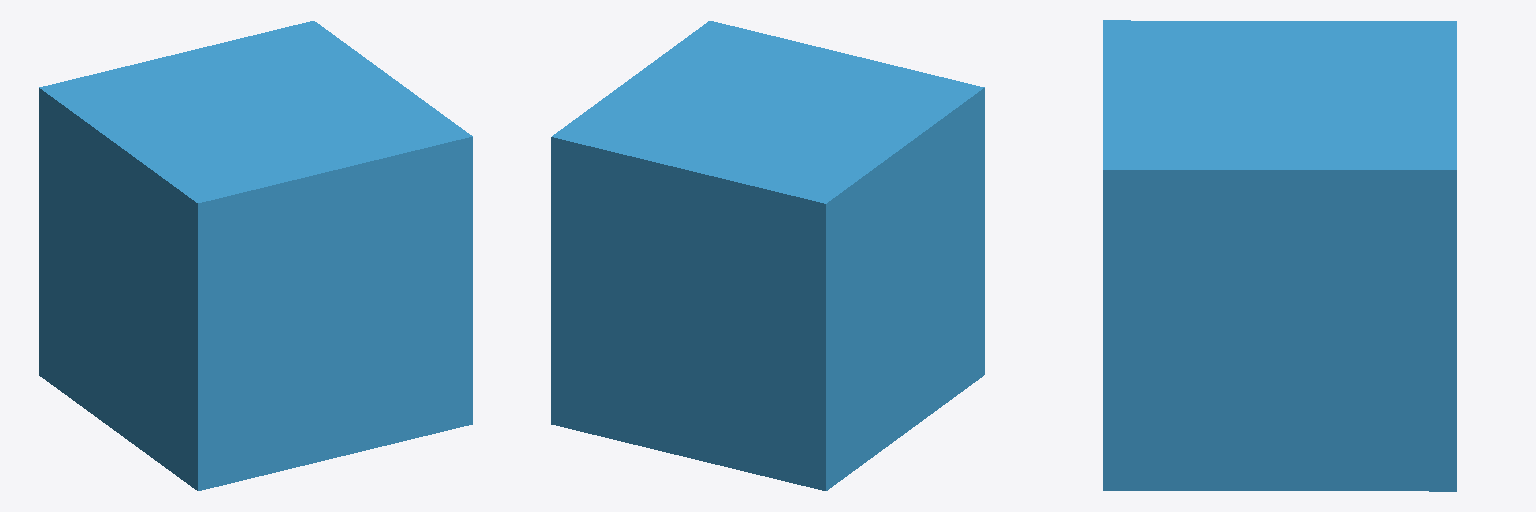
robot.urdf — arm2d2:
<robot name="arm2d2" xmlns:xacro="http://www.ros.org/wiki/xacro">
  <mujoco>
    <compiler meshdir="meshes" balanceinertia="true" discardvisual="false"/>
    <asset>
      <material name="grid" texture="grid" texrepeat="1 1" texuniform="true" reflectance=".2"/>
    </asset>
  </mujoco>

  <link name="base_link">
    <inertial>
        <origin xyz="-2.154281413321998e-06 0.0035387814754625734 -0.0056639470834143136" rpy="0 0 0"/>
        <mass value="1.5479093566761954"/>
        <inertia ixx="0.010238" iyy="0.01139" izz="0.021617" ixy="-0.0" iyz="0.0" ixz="0.0"/>
    </inertial>
    <visual>
        <origin xyz="0 0 0.0025" rpy="0 0 0"/>
        <geometry>
        <mesh filename="base_plate.stl" scale="0.001 0.001 0.001"/>
        </geometry>
        <material name="silver"/>
    </visual>
    <collision>
        <origin xyz="0 0 0.0025" rpy="0 0 0"/>
        <geometry>
        <mesh filename="base_plate.stl" scale="0.001 0.001 0.001"/>
        </geometry>
    </collision>
  </link>

  <link name="base_connector">
      <inertial>
      <origin rpy="0 0 0" xyz="0.06861790086338357 -0.0835697992386399 0.07107579694115096"/>
      <mass value="4.519107238213137"/>
      <inertia ixx="0.059779" ixy="-0.0" ixz="0.0" iyy="0.062251" iyz="0.000956" izz="0.076317"/>
    </inertial>
    <visual>
      <origin rpy="0 0 0" xyz="0 0 0"/>
      <geometry>
        <box size="0.001 0.001 0.001"/>
      </geometry>
      <material name="silver"/>
    </visual>
    <collision>
      <origin rpy="0 0 0" xyz="0 0 0"/>
      <geometry>
        <box size="0.001 0.001 0.001"/>
      </geometry>
    </collision>
  </link>

  <joint name="base_connector_joint" type="fixed">
    <parent link="base_link"/>
    <child link="base_connector"/>
    <origin xyz="0 0 -0.005" rpy="1.57 0 0"/>
  </joint>


  <link name="link_1">
    <inertial>
      <origin xyz="-0.023234210000508494 0.032933361084236216 0.002920663644532681" rpy="0 0 0"/>
      <mass value="0.22666453646044638"/>
      <inertia ixx="0.000128" iyy="0.000201" izz="0.000231" ixy="3.1e-05" iyz="-5e-06" ixz="1.5e-05"/>
    </inertial>
    <visual>
      <origin xyz="-0.0851 -0.006604 0.0851" rpy="0 0 0"/>
      <geometry>
        <mesh filename="link_1_1.stl" scale="0.001 0.001 0.001"/>
      </geometry>
      <material name="silver"/>
    </visual>
    <collision>
      <origin xyz="-0.0851 -0.006604 0.0851" rpy="0 0 0"/>
      <geometry>
        <mesh filename="link_1_1.stl" scale="0.001 0.001 0.001"/>
      </geometry>
    </collision>
  </link>

  
  <joint name="joint_1" type="revolute">
    <origin xyz="0.085 0.006604 -0.085" rpy="0 -0.35  0"/>
    <parent link="base_connector"/>
    <child link="link_1"/>
    <axis xyz="0.0 -1.0 0.0"/>
    <limit effort="100" lower="-3.1415" upper="3.1415" velocity="100"/>
  </joint>

  <link name="link_2">
    <inertial>
      <origin xyz="-0.004298579881610032 0.07240002211825339 0.016744309655985348" rpy="0 0 0"/>
      <mass value="0.2595123095947453"/>
      <inertia ixx="0.000561" iyy="0.000112" izz="0.000572" ixy="-6.1e-05" iyz="-9.9e-05" ixz="-9e-06"/>
    </inertial>
    <visual>
      <origin xyz="-0.090305 -0.046604 0.085785" rpy="0 0 0"/>
      <geometry>
        <mesh filename="link_2_1.stl" scale="0.001 0.001 0.001"/>
      </geometry>
      <material name="silver"/>
    </visual>
    <collision>
      <origin xyz="-0.090305 -0.046604 0.085785" rpy="0 0 0"/>
      <geometry>
        <mesh filename="link_2_1.stl" scale="0.001 0.001 0.001"/>
      </geometry>
    </collision>
  </link>

  <joint name="joint_2" type="revolute">
    <origin xyz="-0.005205 0.04 -0.000685" rpy="-0.436332 3.14 -0.03927"/>
    <limit lower="-1.919862" upper="1.396263" effort="100" velocity="100"/>
    <parent link="link_1" />
    <child link="link_2" />
    <axis xyz="-0.991445 -0.0 0.130526"/>
  </joint>

  <link name="link_3">
    <inertial>
      <origin xyz="-0.01624182942995088 -0.0066433309450394384 0.019077247172201647" rpy="0 0 0"/>
      <mass value="0.1304515658530355"/>
      <inertia ixx="5.4e-05" iyy="6.3e-05" izz="4.4e-05" ixy="-2e-06" iyz="8e-06" ixz="7e-06"/>
    </inertial>
    <visual>
      <origin xyz="-0.084346 -0.183285 0.054438" rpy="0 0 0"/>
      <geometry>
        <mesh filename="link_3_1.stl" scale="0.001 0.001 0.001"/>
      </geometry>
      <material name="silver"/>
    </visual>
    <collision>
      <origin xyz="-0.084346 -0.183285 0.054438" rpy="0 0 0"/>
      <geometry>
        <mesh filename="link_3_1.stl" scale="0.001 0.001 0.001"/>
      </geometry>
    </collision>
  </link>

  <joint name="joint_3" type="revolute">
    <origin xyz="-0.005959 0.136681 0.031347" rpy="-3.42078 0.23562 -0.03"/>
    <limit lower="-4.101524" upper="0.698132" effort="100" velocity="100"/>
    <parent link="link_2" />
    <child link="link_3" />
    <axis xyz="-0.991445 -0.0 0.130526"/>
  </joint>

  <link name="link_4">
    <inertial>
      <origin xyz="0.02326557503032635 -0.017807087000725114 0.04222851748201549" rpy="0 0 0"/>
      <mass value="0.21070496092935861"/>
      <inertia ixx="0.00028" iyy="0.000293" izz="0.000129" ixy="3.4e-05" iyz="8.1e-05" ixz="-8e-05"/>
    </inertial>
    <visual>
      <origin xyz="-0.059366 -0.168718 0.013574" rpy="0 0 0"/>
      <geometry>
        <mesh filename="link_4_1.stl" scale="0.001 0.001 0.001"/>
      </geometry>
      <material name="silver"/>
    </visual>
    <collision>
      <origin xyz="-0.059366 -0.168718 0.013574" rpy="0 0 0"/>
      <geometry>
        <mesh filename="link_4_1.stl" scale="0.001 0.001 0.001"/>
      </geometry>
    </collision>
  </link>

  <joint name="joint_4" type="revolute">
    <origin xyz="-0.02498 -0.014567 0.040864" rpy="0 0 0"/>
    <parent link="link_3" />
    <child link="link_4" />
    <axis xyz="0.121444 -0.366501 0.922458"/>
    <limit effort="100" lower="-3.1415" upper="3.1415" velocity="100"/>
  </joint>

  
  <link name="link_5">
    <inertial>
      <origin xyz="-0.02075508203374557 -0.023703571758186867 0.0028416884784955576" rpy="0 0 0"/>
      <mass value="0.15989560658307483"/>
      <inertia ixx="8.3e-05" iyy="5.8e-05" izz="9.9e-05" ixy="-1.8e-05" iyz="3e-06" ixz="2e-06"/>
    </inertial>
    <visual>
      <origin xyz="-0.091433 -0.131975 -0.076012" rpy="0 0 0"/>
      <geometry>
        <mesh filename="link_5_1.stl" scale="0.001 0.001 0.001"/>
      </geometry>
      <material name="silver"/>
    </visual>
    <collision>
      <origin xyz="-0.091433 -0.131975 -0.076012" rpy="0 0 0"/>
      <geometry>
        <mesh filename="link_5_1.stl" scale="0.001 0.001 0.001"/>
      </geometry>
    </collision>
  </link>

  <joint name="joint_5" type="revolute">
    <origin xyz="0.032067 -0.036743 0.089586" rpy="-2.38412 0.23562 0.1"/>
    <limit lower="-3.228859" upper="0.785398" effort="100" velocity="100"/>
    <parent link="link_4" />
    <child link="link_5" />
    <axis xyz="-0.991445 -0.0 0.130526"/>
  </joint>

  <link name="palm">
  <inertial>
    <origin xyz="0.061664701708749915 0.08137303558404387 0.08022062245839305" rpy="0 0 0"/>
    <mass value="0.013667083672765958"/>
    <inertia ixx="2e-06" iyy="3e-06" izz="2e-06" ixy="-0.0" iyz="-0.0" ixz="-0.0"/>
  </inertial>
  <visual>
    <origin xyz="0 0 0" rpy="0 0 0"/>
    <geometry>
      <mesh filename="palm.stl" scale="0.001 0.001 0.001"/>
    </geometry>
    <material name="silver"/>
  </visual>
  <collision>
    <origin xyz="0 0 0" rpy="0 0 0"/>
    <geometry>
      <mesh filename="palm.stl" scale="0.001 0.001 0.001"/>
    </geometry>
  </collision>
</link>

  <joint name="palm_joint" type="fixed">
    <origin xyz="-0.03 -0.041 0.0045" rpy="0 0 0"/>
    <parent link="link_5"/>
    <child link="palm"/>
  </joint>

    <link name="actuator_1">
    <inertial>
      <origin xyz="0.005491083174233274 -0.03206197503178041 -0.0023745477788477826" rpy="0 0 0"/>
      <mass value="0.018363032655382763"/>
      <inertia ixx="8e-06" iyy="1e-06" izz="8e-06" ixy="0.0" iyz="0.0" ixz="-0.0"/>
    </inertial>
    <visual>
      <origin xyz="-0.008797 0.014908 -0.021091" rpy="0 0 0"/>
      <geometry>
        <mesh filename="package://arm2d2_v2_description/meshes/actuator_1_2.stl" scale="0.001 0.001 0.001"/>
      </geometry>
      <material name="silver"/>
    </visual>
    <collision>
      <origin xyz="-0.008797 0.014908 -0.021091" rpy="0 0 0"/>
      <geometry>
        <mesh filename="package://arm2d2_v2_description/meshes/actuator_1_2.stl" scale="0.001 0.001 0.001"/>
      </geometry>
    </collision>
  </link>

  <joint name="actuator_joint_1" type="revolute">
    <origin xyz="0.008797 -0.014908 0.021091" rpy="0 0 0"/>
    <parent link="palm"/>
    <child link="actuator_1"/>
    <axis xyz="-0.792929 0.002094 0.609311"/>
    <limit upper="1.22173" lower="0.0" effort="100" velocity="100"/>
  </joint>

    <link name="actuator_2">
      <inertial>
        <origin xyz="-0.0048912825904506435 -0.03207131009530898 -0.003353552242169211" rpy="0 0 0"/>
        <mass value="0.018363032655382763"/>
        <inertia ixx="8e-06" iyy="1e-06" izz="8e-06" ixy="0.0" iyz="-0.0" ixz="0.0"/>
      </inertial>
      <visual>
        <origin xyz="-0.013822 0.015067 0.017999" rpy="0 0 0"/>
        <geometry>
          <mesh filename="package://arm2d2_v2_description/meshes/actuator_2_1.stl" scale="0.001 0.001 0.001"/>
        </geometry>
        <material name="silver"/>
      </visual>
      <collision>
        <origin xyz="-0.013822 0.015067 0.017999" rpy="0 0 0"/>
        <geometry>
          <mesh filename="package://arm2d2_v2_description/meshes/actuator_2_1.stl" scale="0.001 0.001 0.001"/>
        </geometry>
      </collision>
    </link>


    <joint name="actuator_joint_2" type="revolute">
      <origin xyz="0.013822 -0.015067 -0.017999" rpy="0 0 0"/>
      <parent link="palm"/>
      <child link="actuator_2"/>
      <axis xyz="0.924146 0.002094 0.382034"/>
      <limit upper="1.22173" lower="0.0" effort="100" velocity="100"/>
    </joint>

    <link name="actuator_3">
      <inertial>
        <origin xyz="-0.0005475032335578722 -0.03202939701353134 0.006126837510314051" rpy="0 0 0"/>
        <mass value="0.018363032655382763"/>
        <inertia ixx="8e-06" iyy="1e-06" izz="8e-06" ixy="-0.0" iyz="0.0" ixz="0.0"/>
      </inertial>
      <visual>
        <origin xyz="0.022563 0.015024 0.00279" rpy="0 0 0"/>
        <geometry>
          <mesh filename="package://arm2d2_v2_description/meshes/actuator_3_1.stl" scale="0.001 0.001 0.001"/>
        </geometry>
        <material name="silver"/>
      </visual>
      <collision>
        <origin xyz="0.022563 0.015024 0.00279" rpy="0 0 0"/>
        <geometry>
          <mesh filename="package://arm2d2_v2_description/meshes/actuator_3_1.stl" scale="0.001 0.001 0.001"/>
        </geometry>
      </collision>
    </link>


    <joint name="actuator_joint_3" type="revolute">
      <origin xyz="-0.022563 -0.015024 -0.00279" rpy="0 0 0"/>
      <parent link="palm"/>
      <child link="actuator_3"/>
      <axis xyz="-0.131217 -0.004189 -0.991345"/>
      <limit upper="1.22173" lower="0.0" effort="100" velocity="100"/>
    </joint>



</robot>

--- Facts derived from the render (not from the file) ---
Views: 3 orthographic renders of the robot side by side, from view 1: azimuth 30°, elevation 25°; view 2: azimuth 150°, elevation 25°; view 3: azimuth 270°, elevation 25°.
Robot: arm2d2 — 11 links, 10 joints (8 revolute, 2 fixed); root link base_link; default pose: all joints at 0.
Links seen in each view (by area): view 1: base_connector; view 2: base_connector; view 3: base_connector.
Link boxes in pixels (x1,y1,x2,y2): base_connector: (39,21,472,490); base_connector: (551,21,984,490); base_connector: (1103,20,1456,491).
Bounding box of the posed robot: 0.001 × 0.001 × 0.001 m (x, y, z).
0 mesh visuals loaded from 10 distinct referenced files (none loaded); not drawn: 10 (reference not matched to a file when rendering).